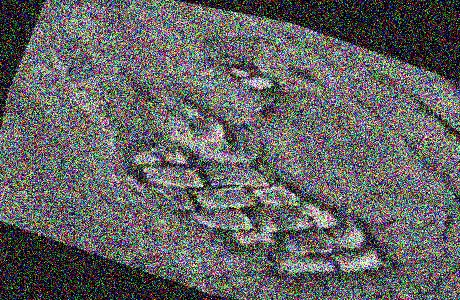pothole: (87, 118, 424, 300), (134, 80, 258, 167), (222, 55, 285, 98)
